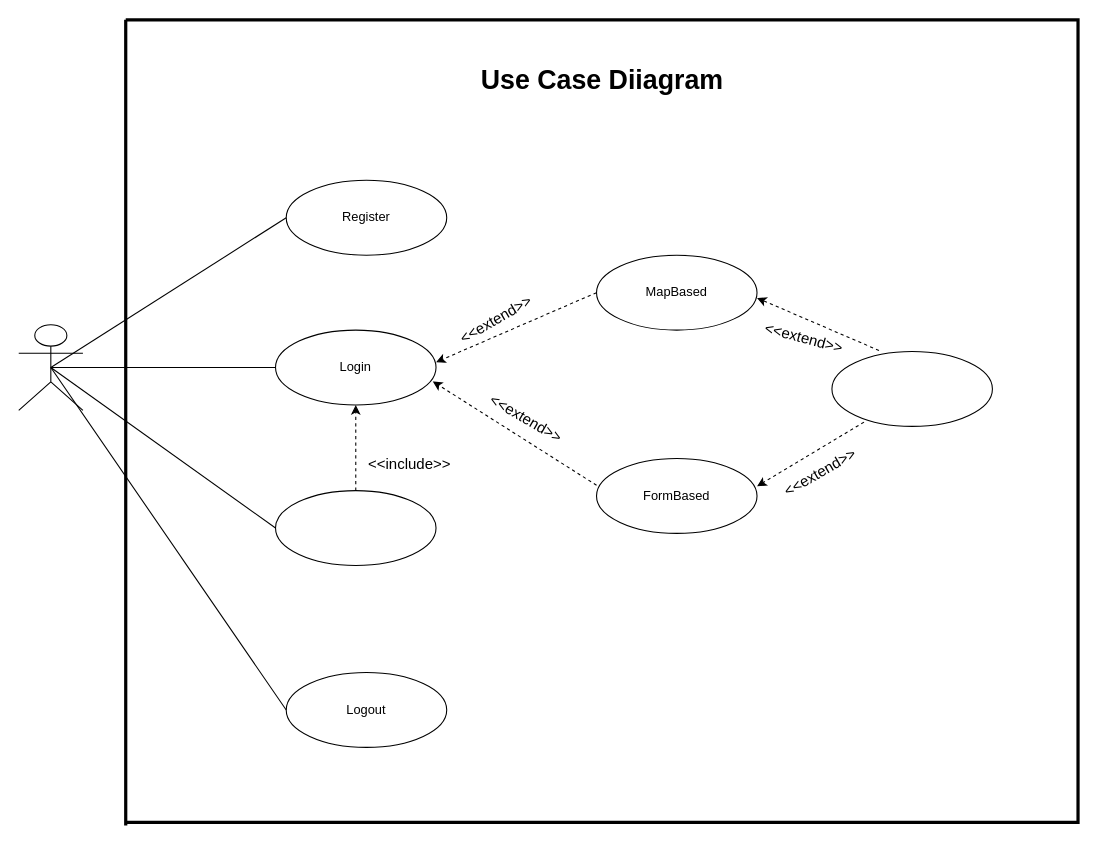
The diagram is 1099 pixels wide and 847 high, and some of its shapes have lost their labels. Here are the shapes that lost their labels. From the top down, the centre of each, then its label:
(50,367): User
(911,388): Generatively CreateCustomScenarios
(355,527): AccessPreviousRecord
